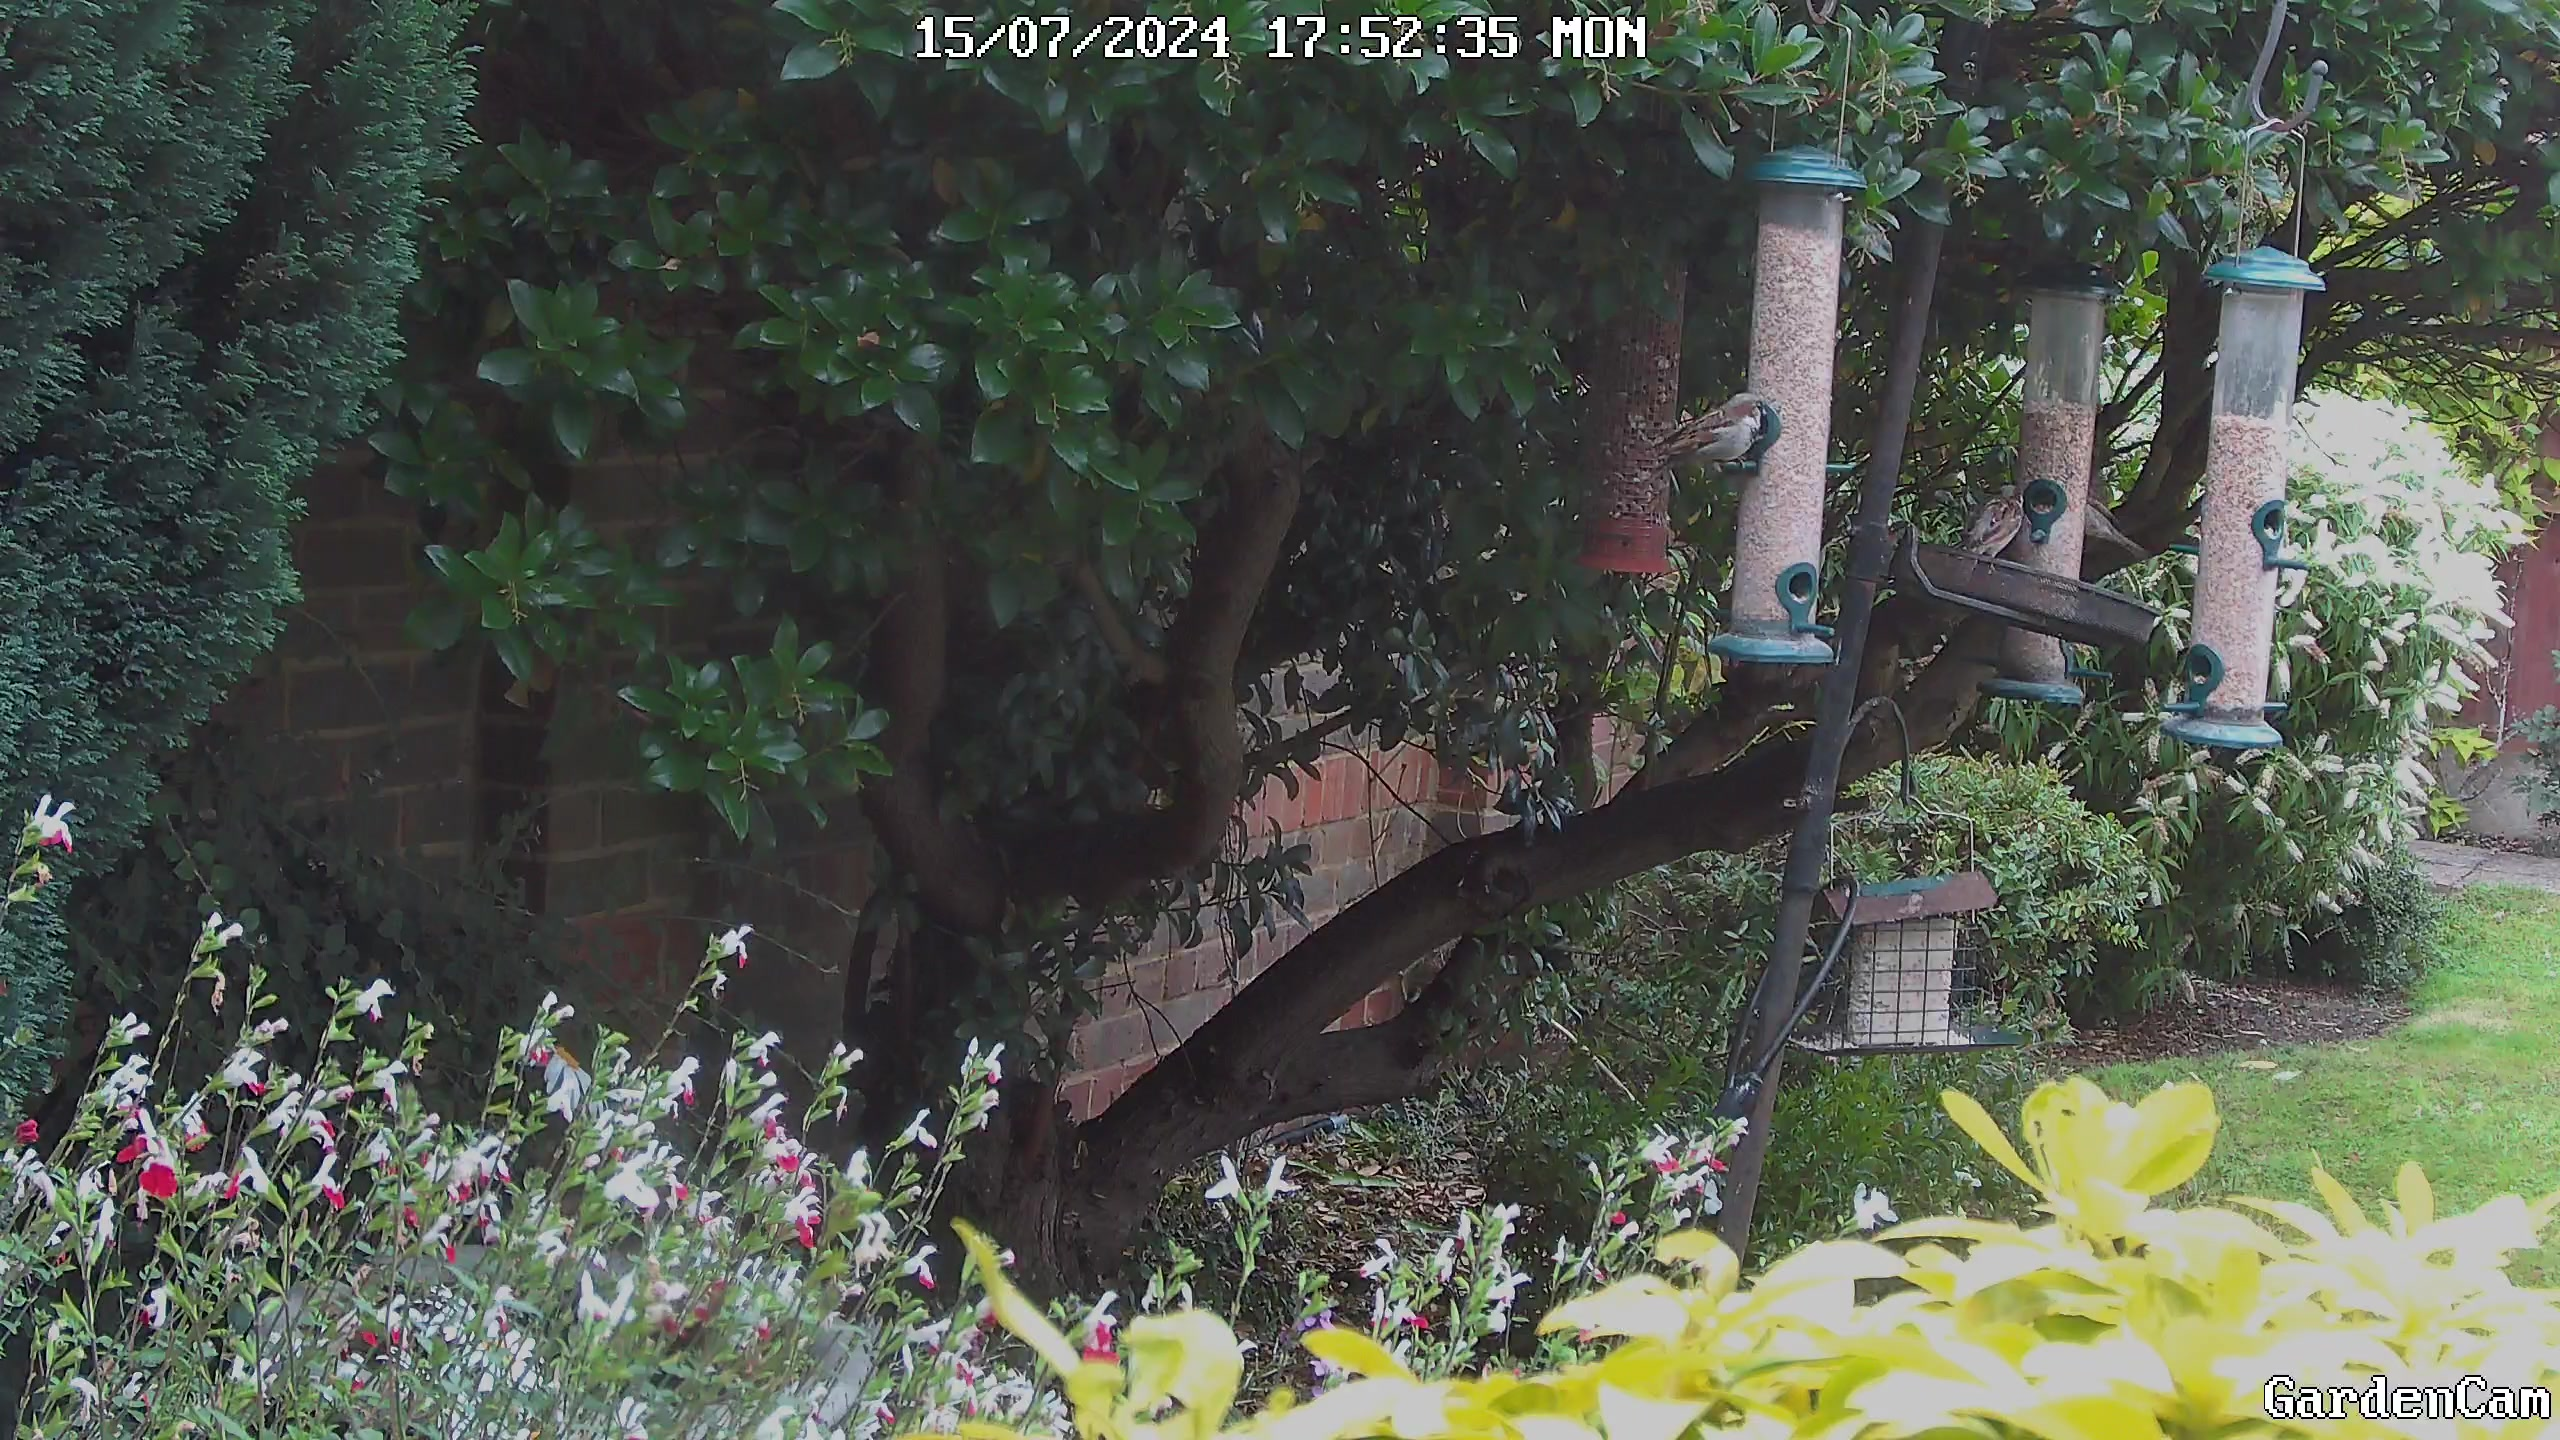House_Sparrow: (1637, 380, 1783, 501), (1936, 468, 2043, 578)
